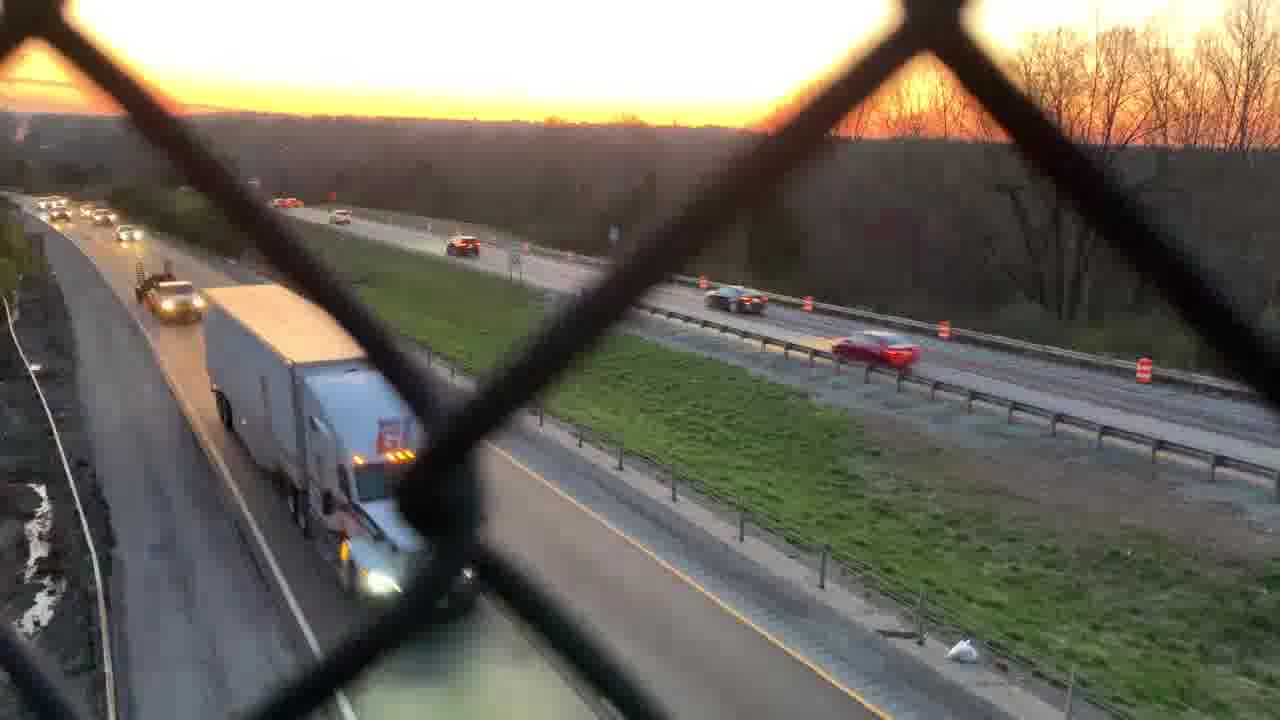heavyTruck: (193, 278, 486, 595)
largeCar: (445, 232, 482, 259)
lightTruck: (131, 257, 206, 321)
smallCar: (828, 328, 926, 369), (700, 286, 767, 316)
vehicle: (112, 219, 146, 244), (88, 207, 116, 227), (324, 208, 353, 225), (49, 211, 71, 225), (32, 196, 50, 213), (48, 194, 67, 209), (271, 195, 289, 210)
